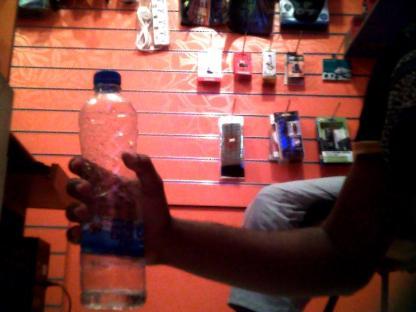Plastic Bottle: (71, 70, 147, 312)
